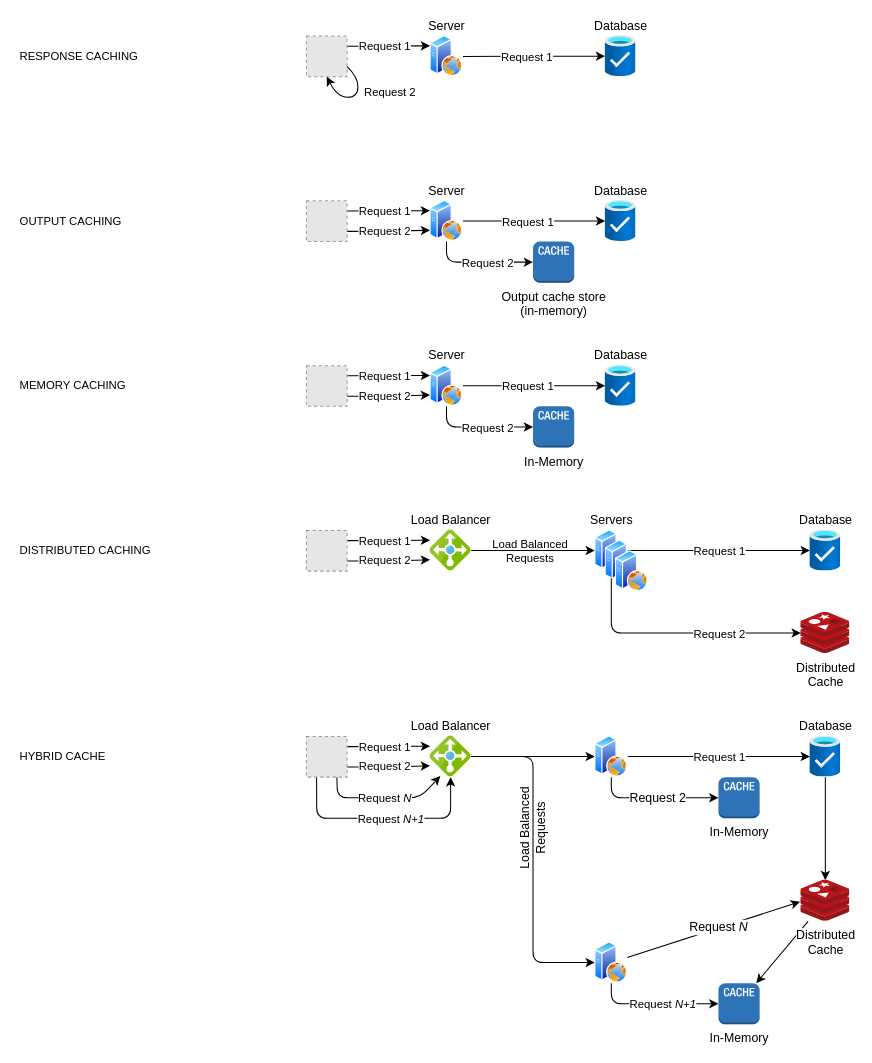
Image size: 872x1063. Some labels were removed from this diagram. Grey dashed boxes stand in for pictures. The centre of each missing label's shape, as x and y in pixels:
"Server 1" goes at point 610,756.
"Server N" goes at point 610,962.
